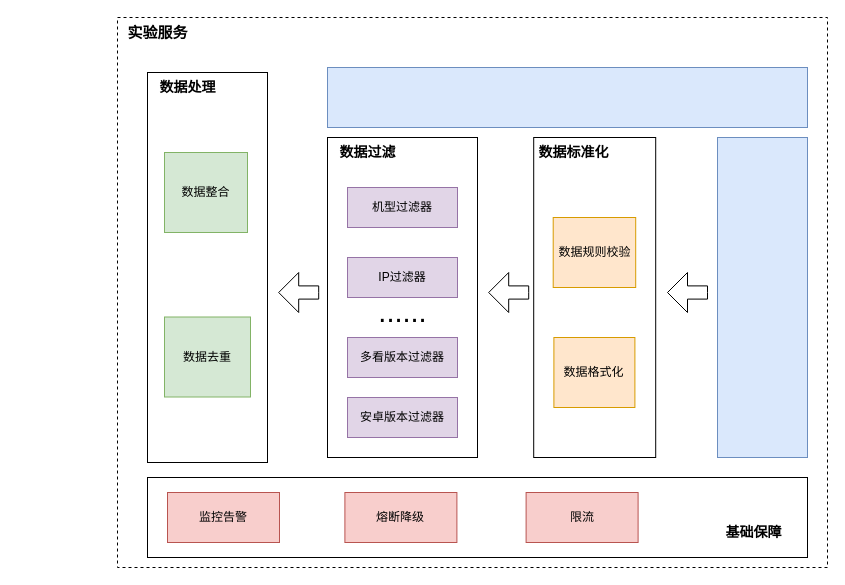
Some shapes in this 845 by 585 pixel diagram are drawn without their labels. Here are the shapes that lost their labels. From the top down, the centre of each, then its label:
point 567,97: AB实验平台
point 762,297: 配置中心
